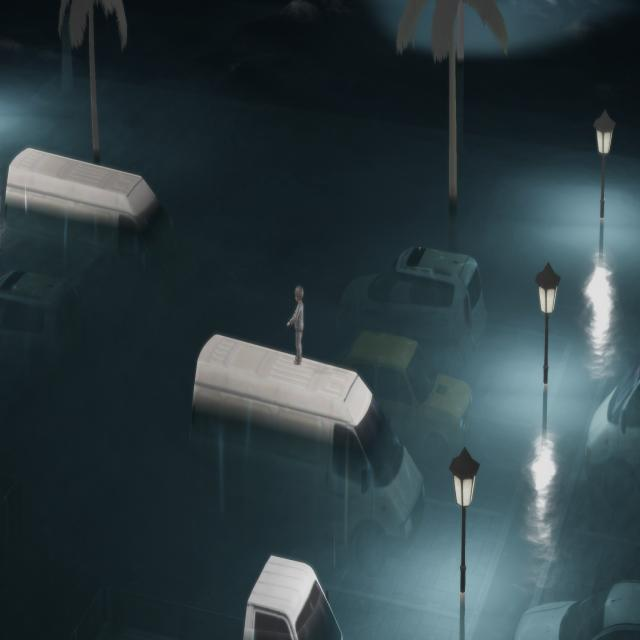Human: (281, 279, 312, 372)
